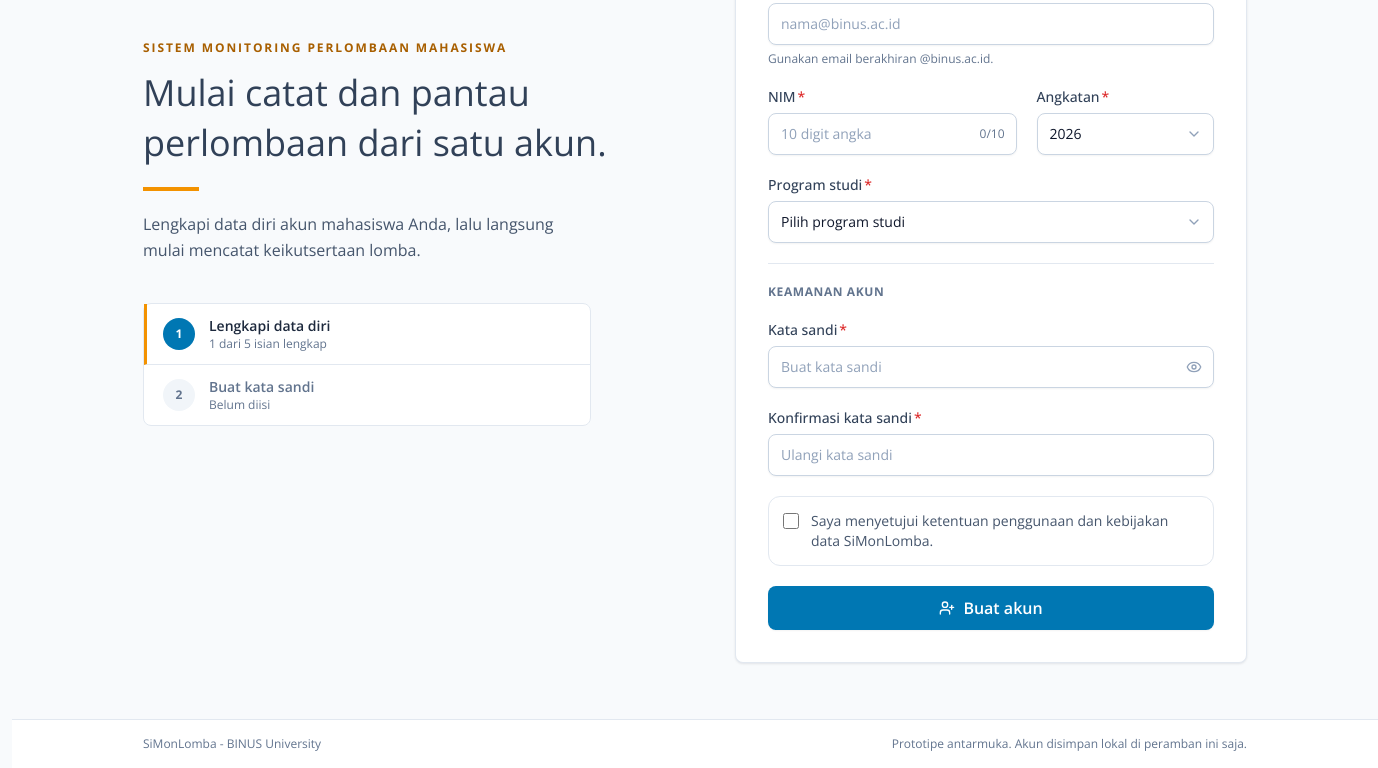
it: Halaman daftar › menampilkan pesan validasi saat dikirim kosong dan tidak membuat akun
(page scrolled)
Click the button "Buat akun".
click(991, 608)  # box top-left (768, 586), bottom-right (1214, 630)
(page scrolled)
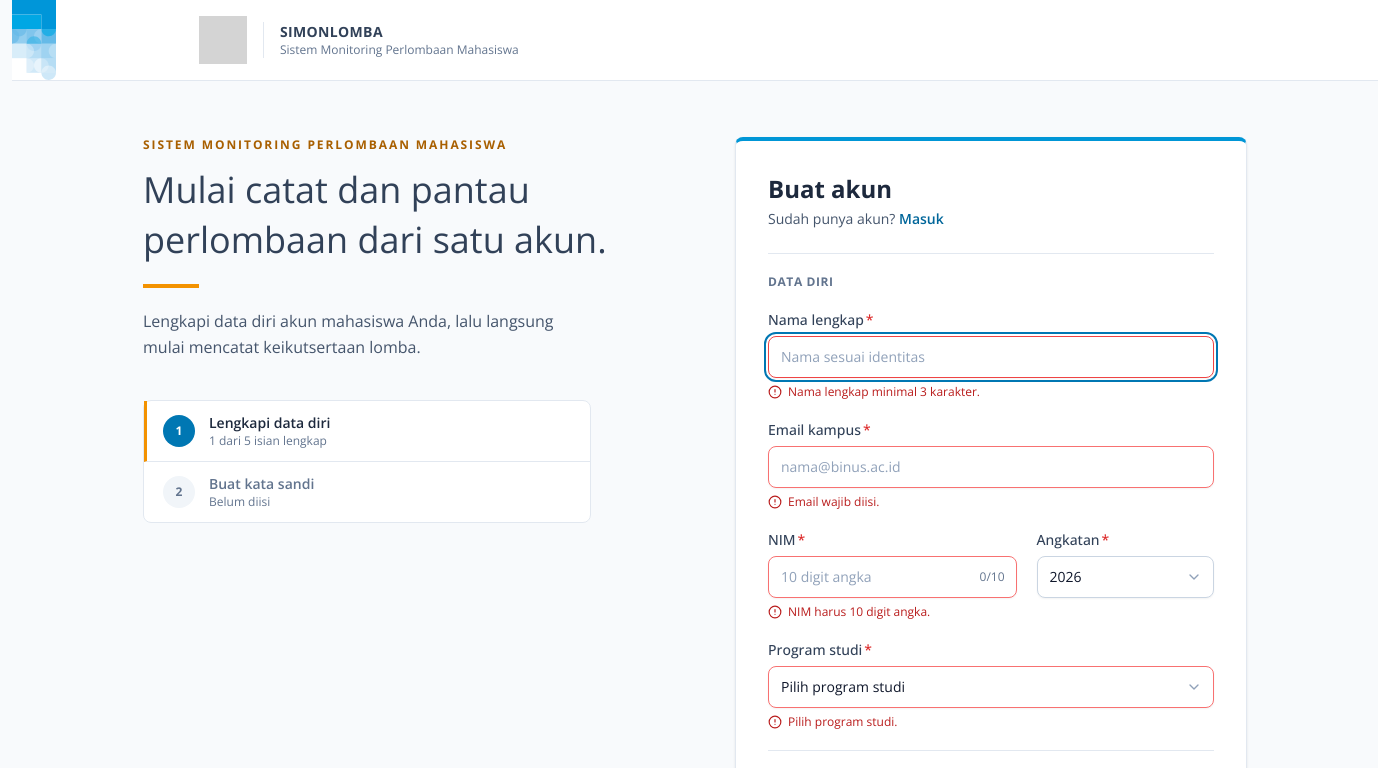
Expected: the text "Nama lengkap minimal 3 karakter." is shown, top-left (788, 384), bottom-right (980, 400)
Expected: the text "NIM harus 10 digit angka." is shown, top-left (788, 604), bottom-right (930, 620)
Expected: the text "Pilih program studi." is shown, top-left (788, 714), bottom-right (898, 730)
